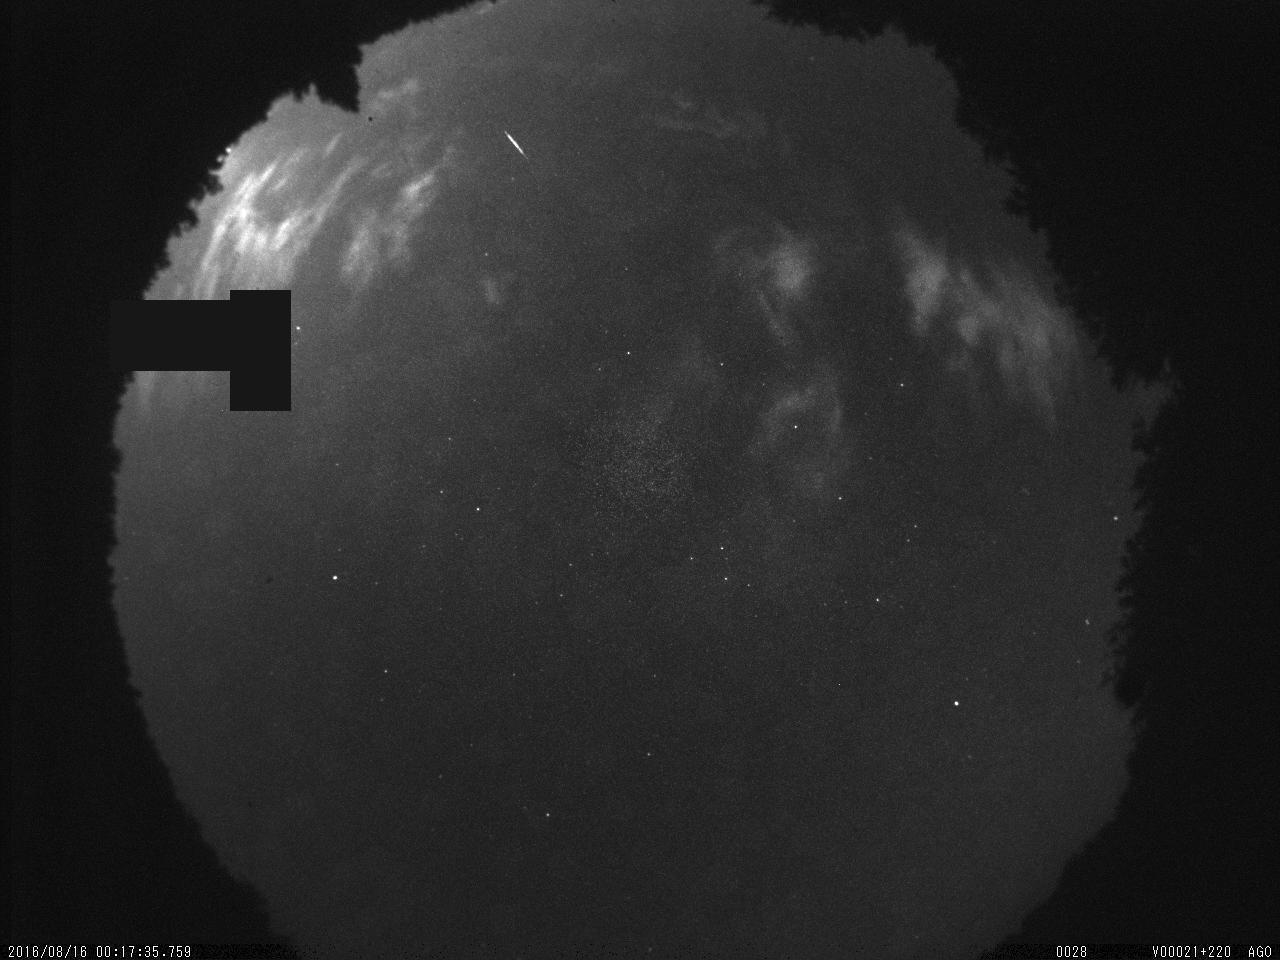Meteor: (502, 128, 529, 160)
